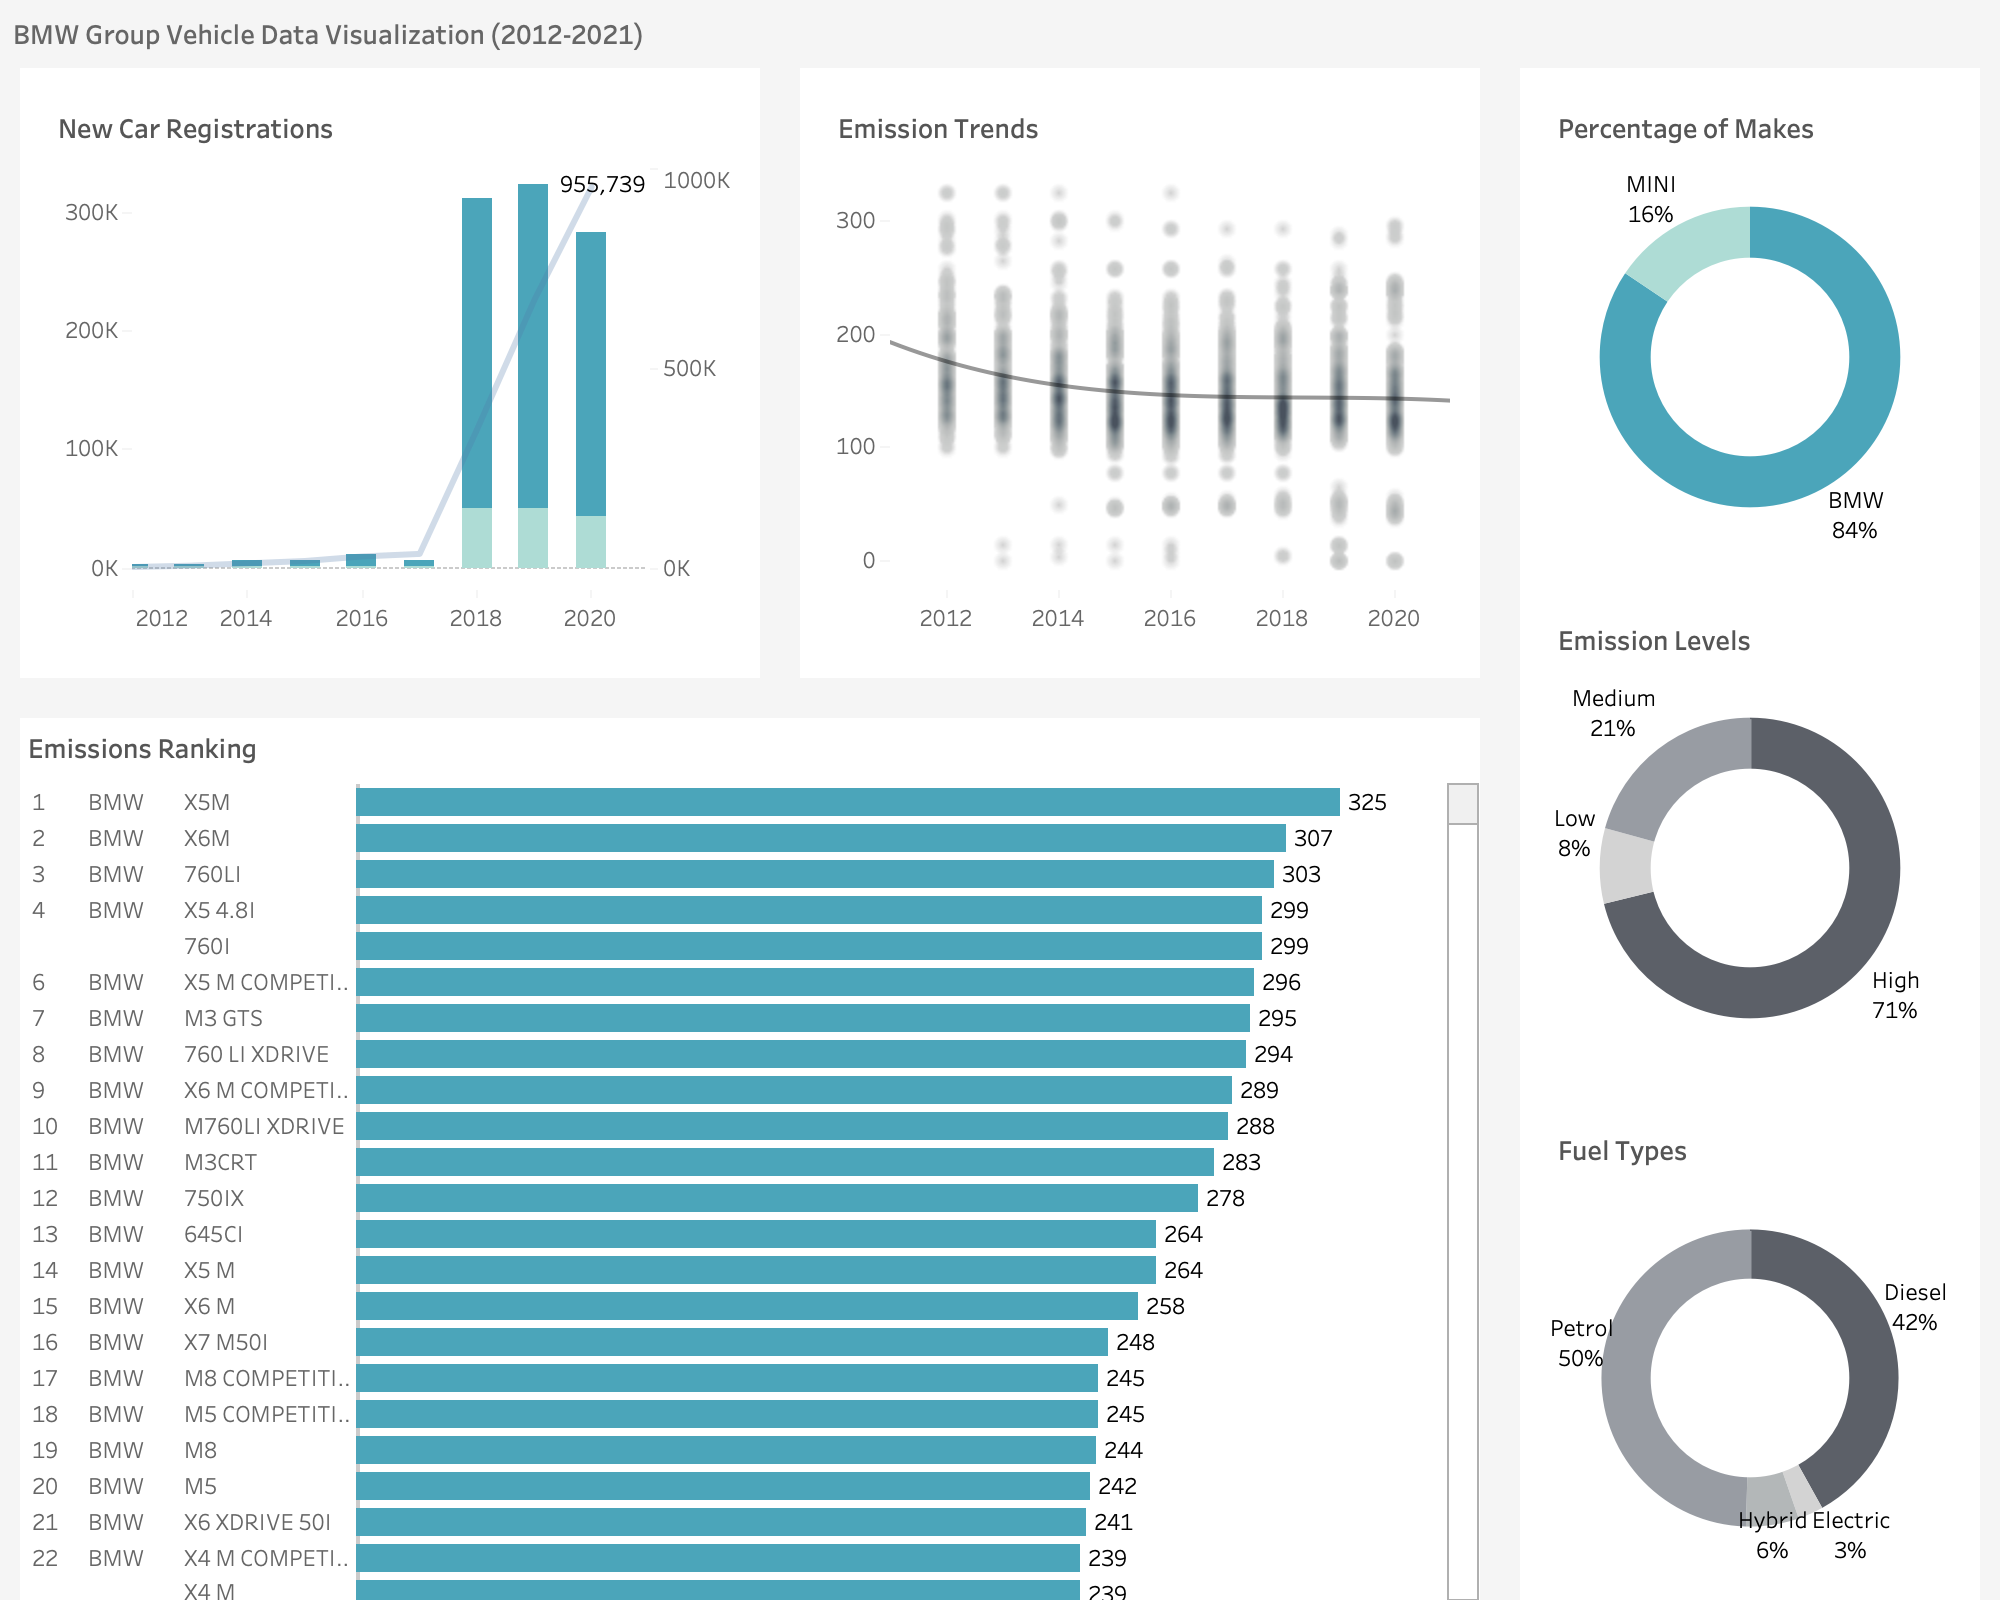

The dashboard page shown, as its layout file describes it:
{"tool":"tableau","page":{"name":"Dashboard","canvas":[1000,800],"ordinal":0},"visuals":[{"type":"text","box":[0,0,1000,34]},{"type":"worksheet","title":"New Car Registrations","mark":"Bar","rows":["Mk","Calculation_1243415739113205796"],"cols":["year"],"box":[0,34,390,305]},{"type":"worksheet","title":"Emission Trends","mark":"Heatmap","rows":["Enedc (g/km)"],"cols":["year"],"box":[390,34,360,305]},{"type":"worksheet","title":"Percentage of Makes","mark":"Pie","rows":["Calculation_1243415738582736902","Calculation_1243415738582777864"],"box":[750,34,250,256]},{"type":"worksheet","title":"Emission Levels","mark":"Pie","rows":["Calculation_1243415738582736902","Calculation_1243415738582777864"],"box":[750,290,250,255]},{"type":"worksheet","title":"emissions","mark":"Bar","rows":["Calculation_1243415738944958493","Mk","Cn"],"cols":["Enedc (g/km)"],"box":[0,359,750,441]},{"type":"worksheet","title":"Fuel Types","mark":"Pie","rows":["Calculation_1243415738582736902","Calculation_1243415738582777864"],"box":[750,545,250,255]}]}

Visuals, with their boxes in screenshot pixels (x1, y1, x2, y2), scaled from the page's 1000x800 canvas onto the 2000x1600 screenshot:
text: x1=0, y1=0, x2=1999, y2=68
"New Car Registrations" worksheet (Bar marks): x1=0, y1=68, x2=780, y2=678
"Emission Trends" worksheet (Heatmap marks): x1=780, y1=68, x2=1500, y2=678
"Percentage of Makes" worksheet (Pie marks): x1=1500, y1=68, x2=1999, y2=580
"Emission Levels" worksheet (Pie marks): x1=1500, y1=580, x2=1999, y2=1090
"emissions" worksheet (Bar marks): x1=0, y1=718, x2=1500, y2=1599
"Fuel Types" worksheet (Pie marks): x1=1500, y1=1090, x2=1999, y2=1599
